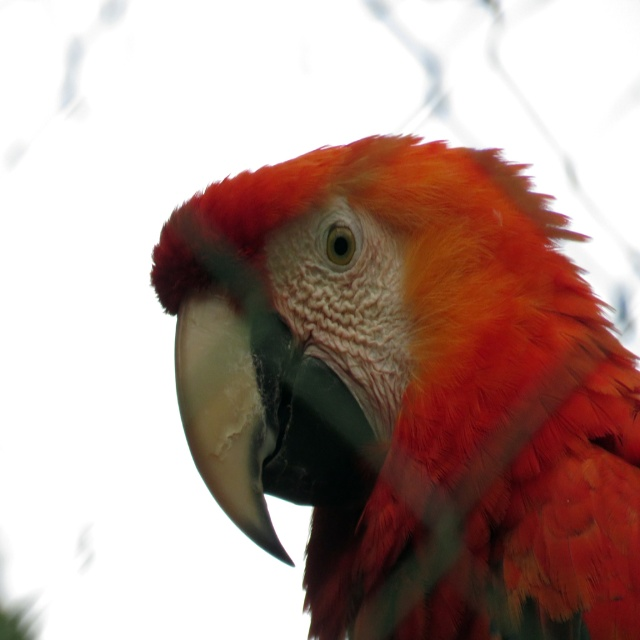Parrot: (149, 131, 640, 640)
